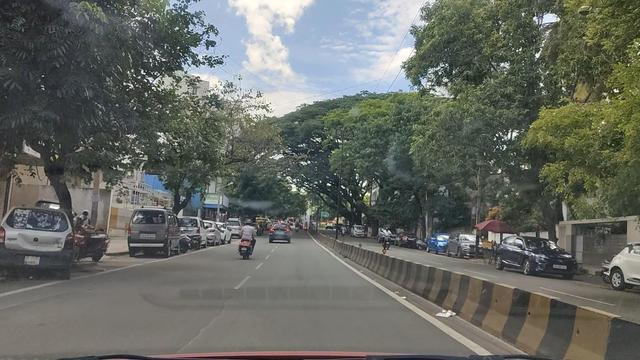LMV: (6, 210, 80, 287), (232, 223, 264, 263)
